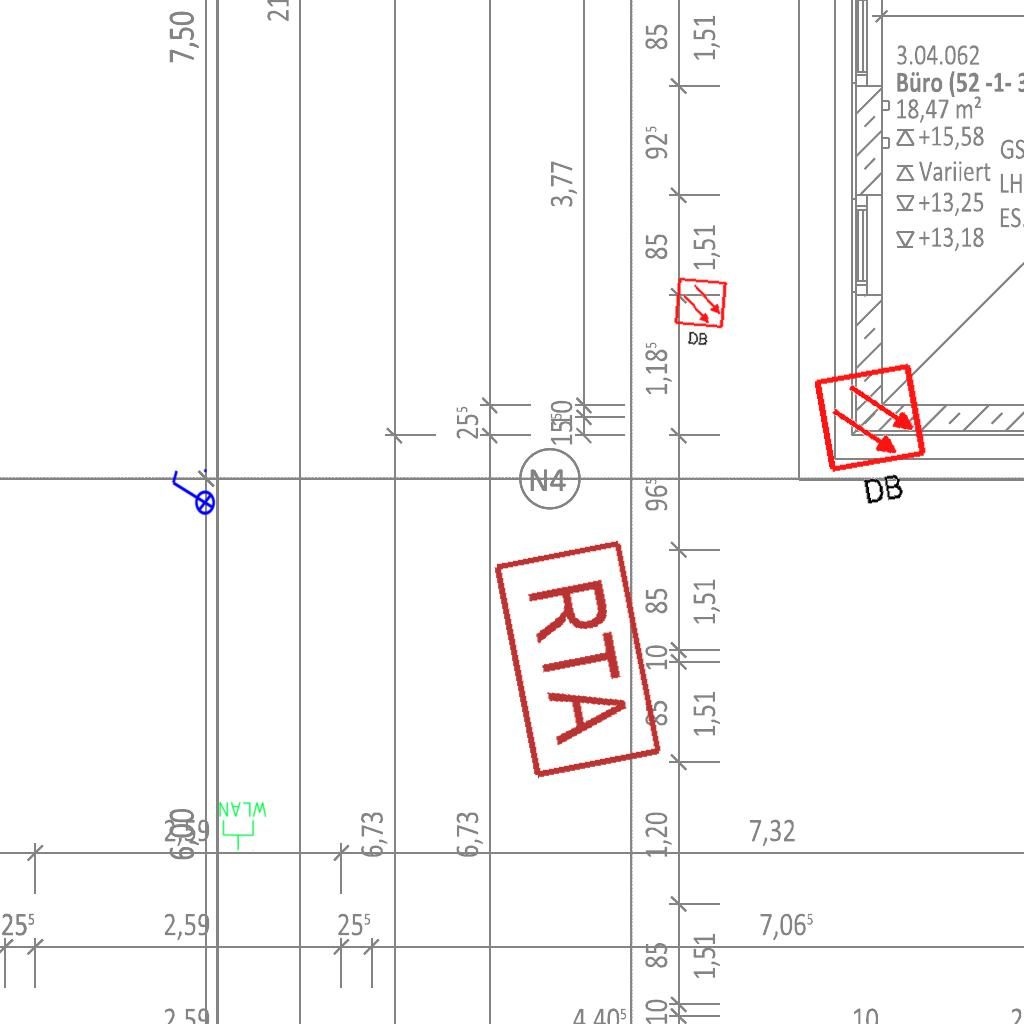Ausschalter_beleuchtet: (168, 466, 216, 522)
DB_Melder_in_Doppelboden_mit_Revisionsoeffnung_mind_40_x_40_cm: (805, 354, 945, 521), (668, 273, 733, 353)
Ruf-und_Abstelltaster: (487, 531, 667, 783)
WLAN: (217, 800, 269, 852)
